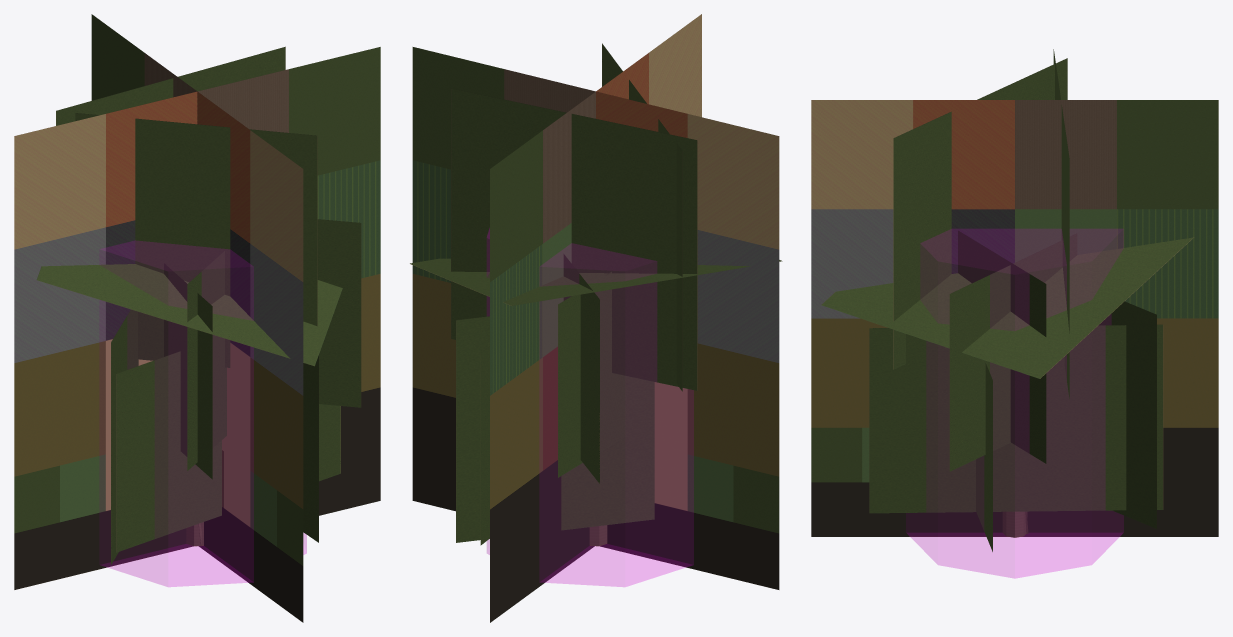
File: creosote_large.dae
3 views of the same model, side by side, from view 1: azimuth 30°, elevation 25°; view 2: azimuth 150°, elevation 25°; view 3: azimuth 270°, elevation 25° (orthographic). The views are drawn at different scales.
Visible parts, largest first — view 1: creosote_large_a50, creosote_large_a800, creosote_large_a200, Colmesh_bush-1; view 2: creosote_large_a50, creosote_large_a800, creosote_large_a200, Colmesh_bush-1; view 3: creosote_large_a50, creosote_large_a800, creosote_large_a200, Colmesh_bush-1.
Part boxes in pixels (x1,y1,x2,y2): creosote_large_a50: (14, 14, 380, 622); creosote_large_a800: (36, 47, 361, 564); creosote_large_a200: (37, 47, 361, 560); Colmesh_bush-1: (100, 241, 306, 586); creosote_large_a50: (412, 14, 779, 622); creosote_large_a800: (410, 43, 781, 546); creosote_large_a200: (410, 45, 781, 544); Colmesh_bush-1: (487, 228, 693, 586); creosote_large_a50: (811, 100, 1218, 536); creosote_large_a800: (821, 49, 1193, 551); creosote_large_a200: (822, 60, 1190, 550); Colmesh_bush-1: (906, 229, 1123, 578).
Bounding box in the file's own units: 1.96 × 1.96 × 2.32.
Materials: 2 (1 with a texture image).
